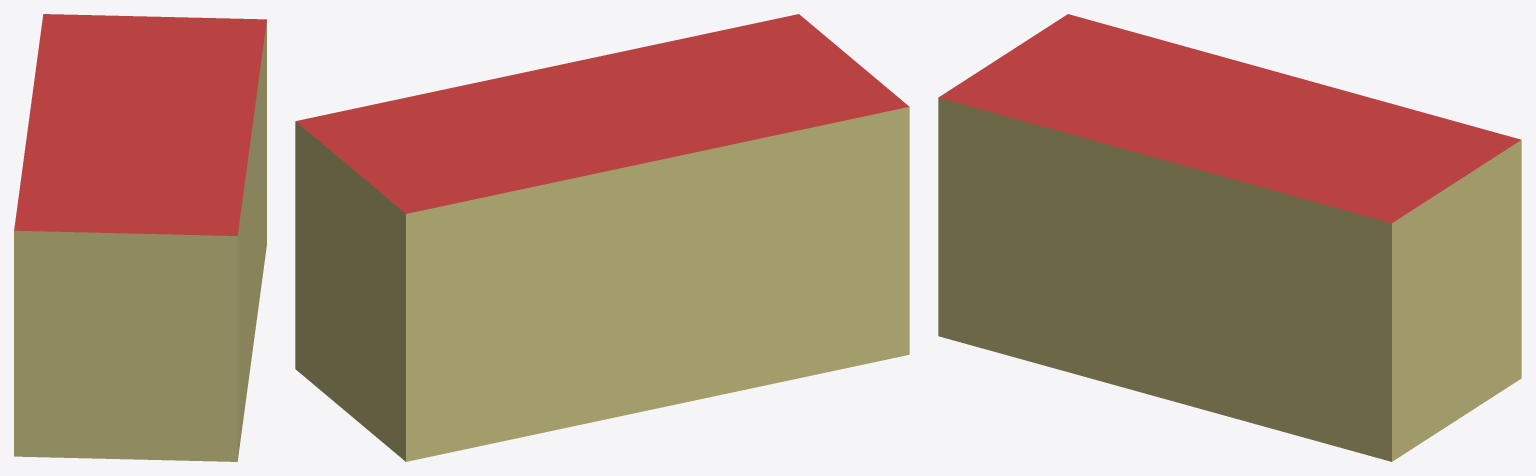
3 renders of one model, left to right at view 1: azimuth 30°, elevation 25°; view 2: azimuth 150°, elevation 25°; view 3: azimuth 270°, elevation 25°, orthographic. The views are drawn at different scales.
Visible parts, largest first — view 1: group_4, group_3; view 2: group_4, group_3; view 3: group_4, group_3.
Part boxes in pixels (left/top/right/bottom): group_4: left=14, top=20, right=266, bottom=461; group_3: left=14, top=14, right=266, bottom=235; group_4: left=295, top=107, right=909, bottom=461; group_3: left=295, top=14, right=909, bottom=213; group_4: left=938, top=97, right=1521, bottom=461; group_3: left=938, top=14, right=1521, bottom=223.
Bounding box in the file's own units: 8.83 × 10.4 × 4.69.
